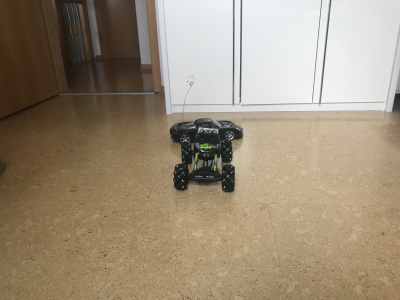remote control car: (171, 128, 237, 195)
